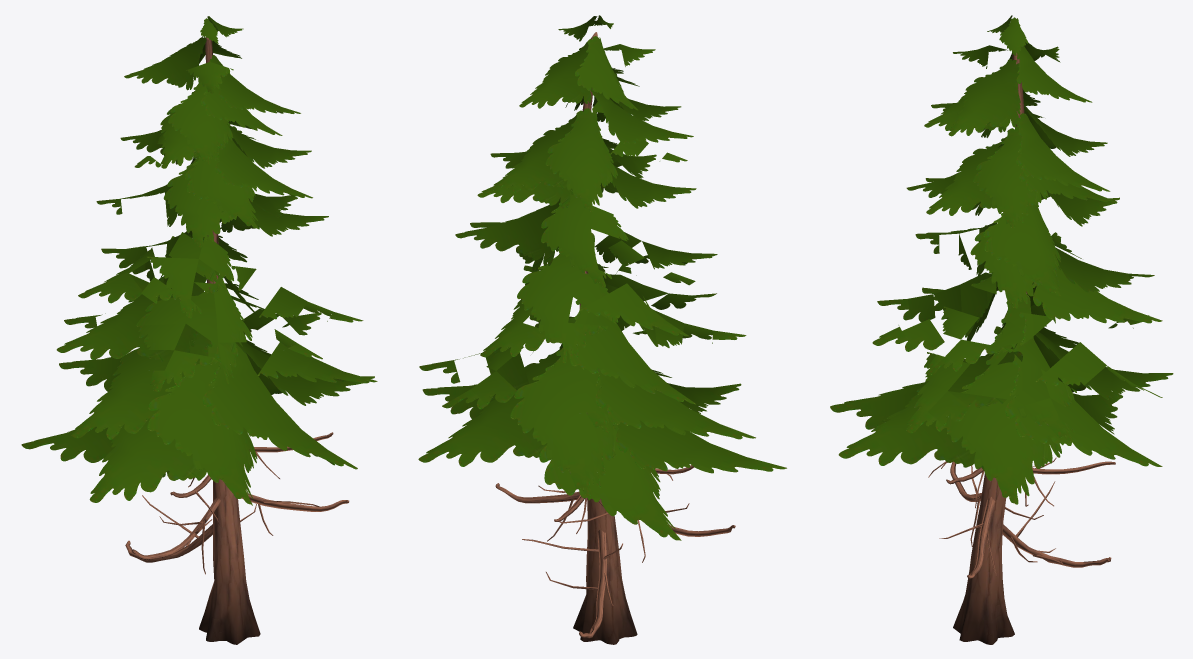
File: fir-natural.mid.quaternius.glb
3 views of the same model, side by side, from view 1: azimuth 30°, elevation 25°; view 2: azimuth 150°, elevation 25°; view 3: azimuth 270°, elevation 25° (orthographic). The views are drawn at different scales.
Parts seen in each view (by area): view 1: Pine_4; view 2: Pine_4; view 3: Pine_4.
Part boxes in pixels (x1,y1,x2,y2): Pine_4: [21, 16, 377, 644]; Pine_4: [418, 15, 786, 644]; Pine_4: [830, 15, 1173, 644].
Size of the model in its own units: 7.94 by 13.99 by 7.35.
2 materials, 2 textured.
